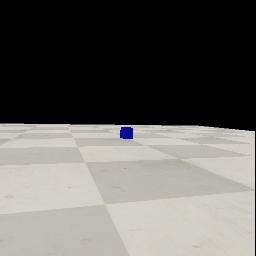box: (120, 127, 133, 139)
